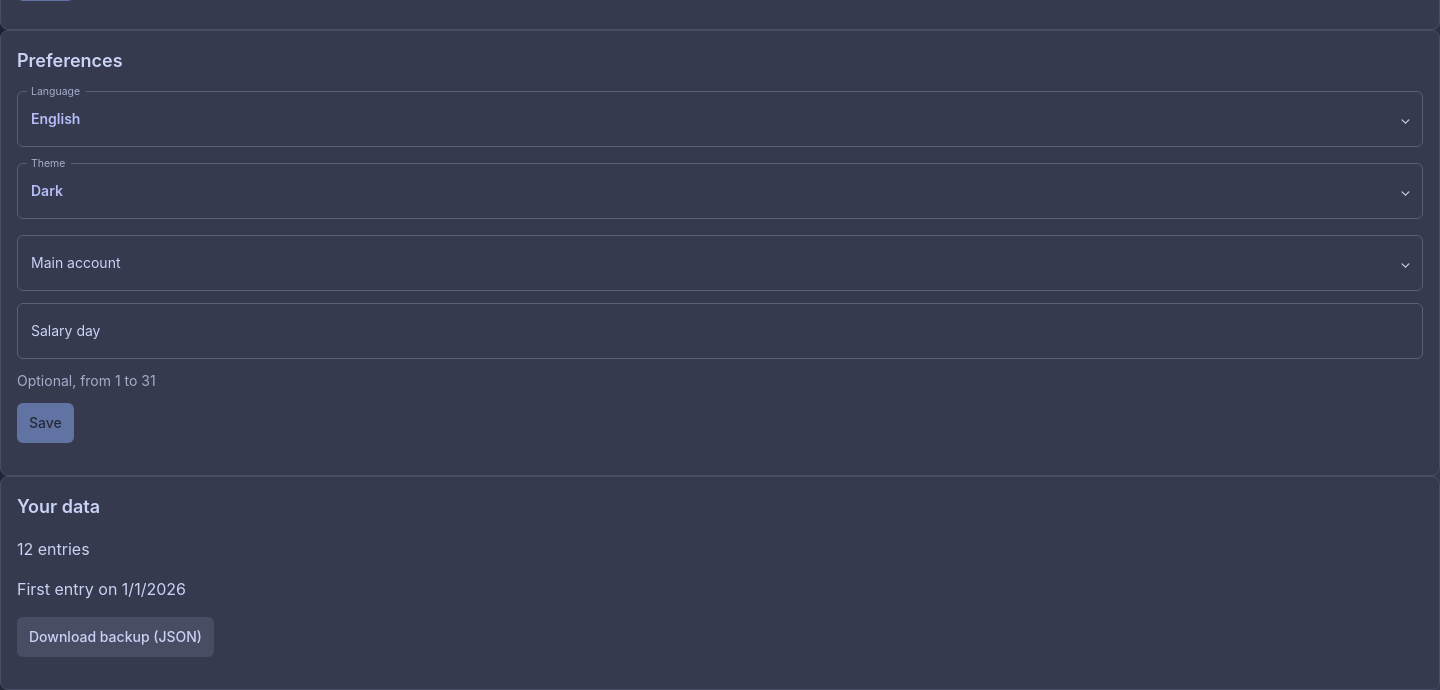
it: downloads the backup and displays data statistics
(page scrolled)
Check: the text "12 entries" is shown, box [17,539,90,559]
Check: the text "First entry on 1/1/2026" is shown, box [17,579,186,599]
Click the button "Download backup (JSON)".
click(116, 637)  # box [17,617,214,657]
(page scrolled)
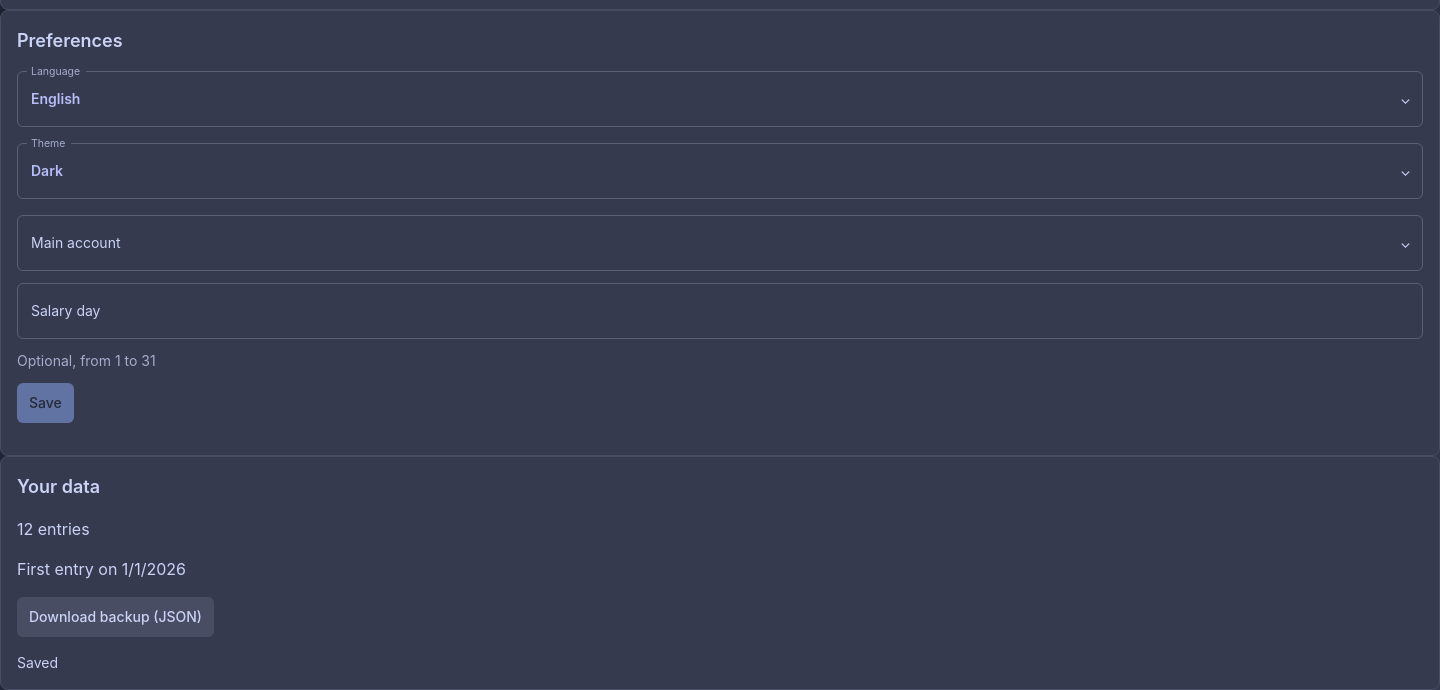
Check: the text "Saved" is shown, box [17,654,58,671]
